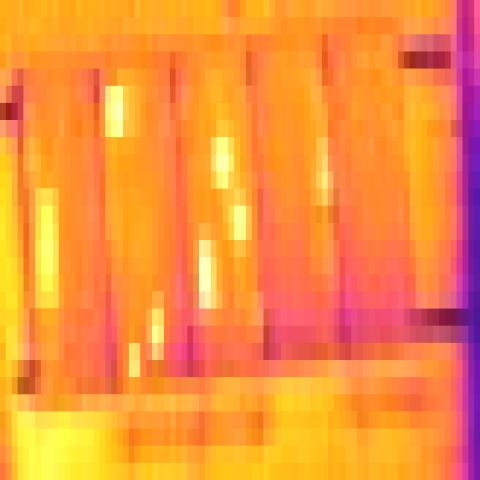fault: (35, 188, 59, 308), (193, 223, 217, 308), (316, 154, 334, 223), (105, 86, 123, 137), (211, 137, 228, 189), (152, 291, 164, 360), (228, 206, 246, 240), (129, 343, 140, 377)
